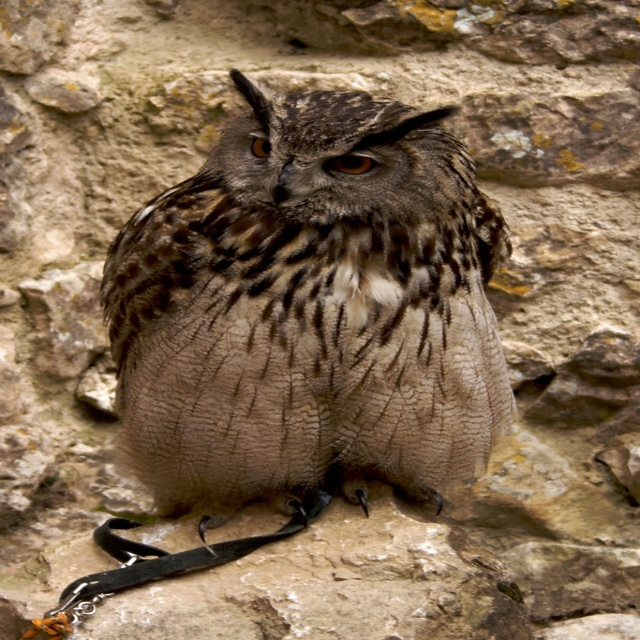Owl: (89, 70, 524, 558)
